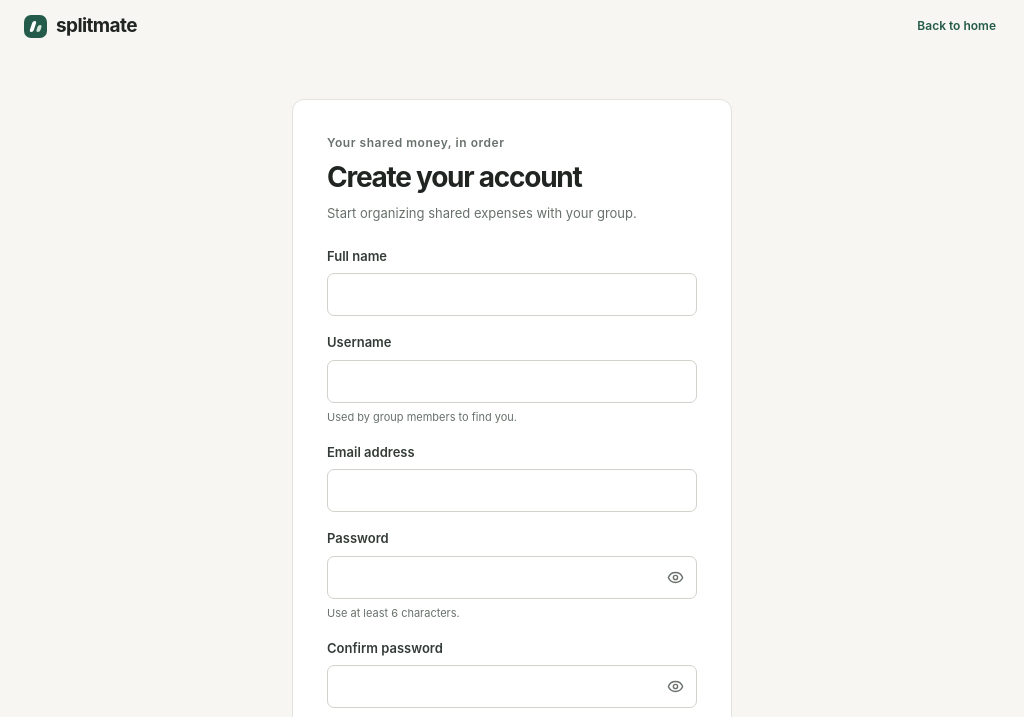
Scenario: AuthPage registration feedback › shows email delivery failure and stays on registration instead of claiming success
Type "Test Person" into the field labelled "Full name". click: [512, 295]
box: top-left (327, 273), bottom-right (697, 316)
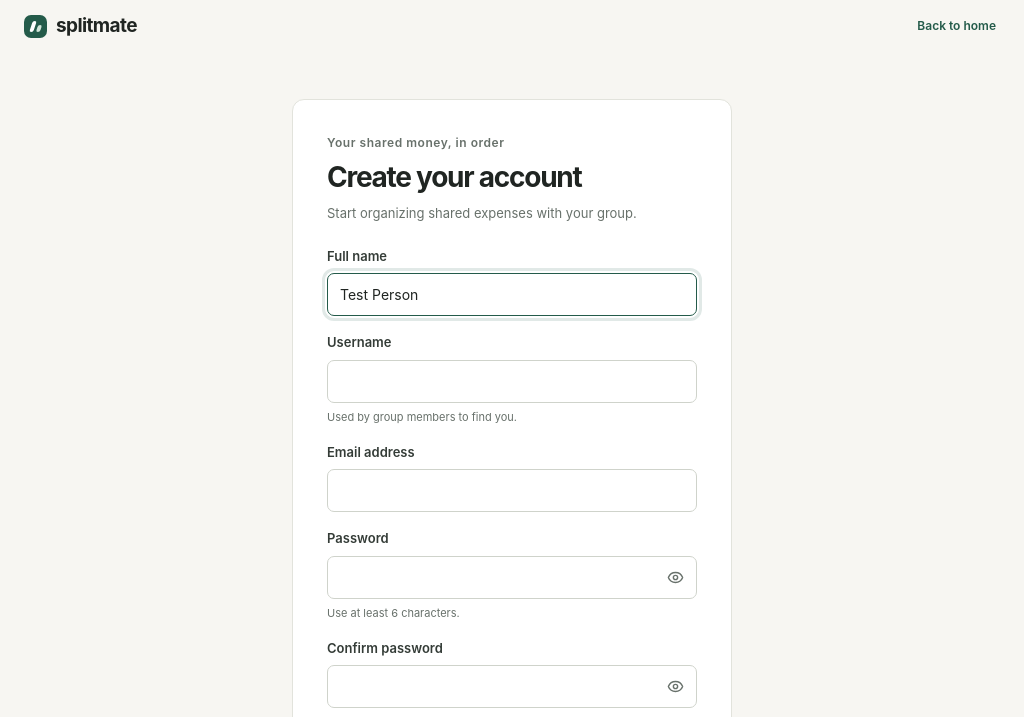
Type "testperson" into the field labelled "Username". click: [512, 381]
box: top-left (327, 360), bottom-right (697, 403)
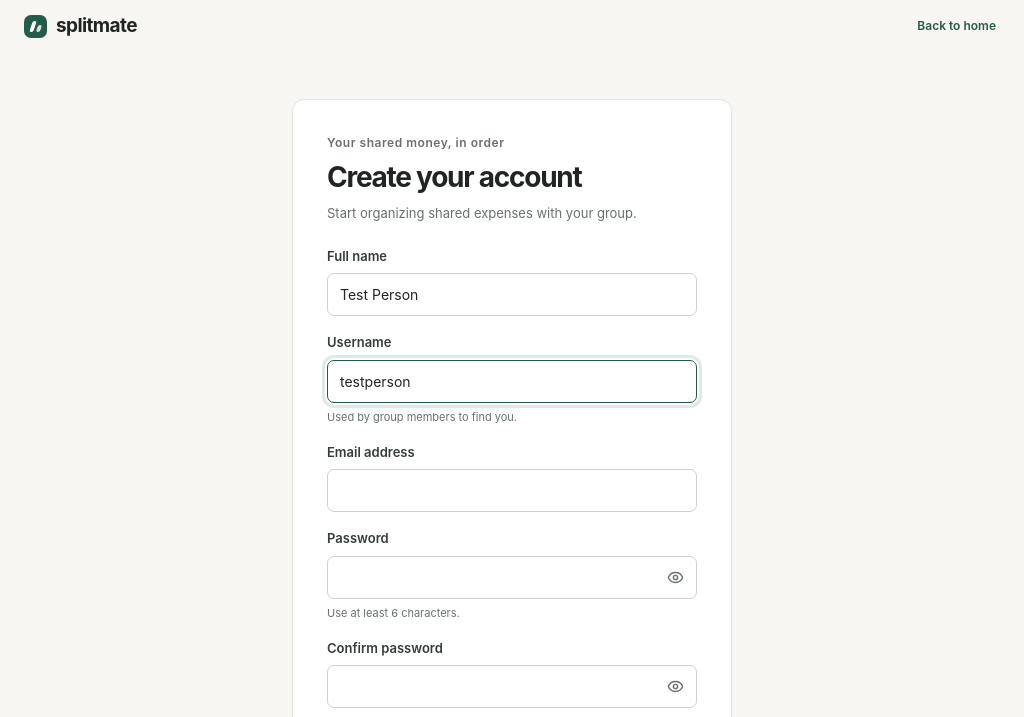
Type "test@example.com" into the field labelled "Email address". click: [512, 491]
box: top-left (327, 469), bottom-right (697, 512)
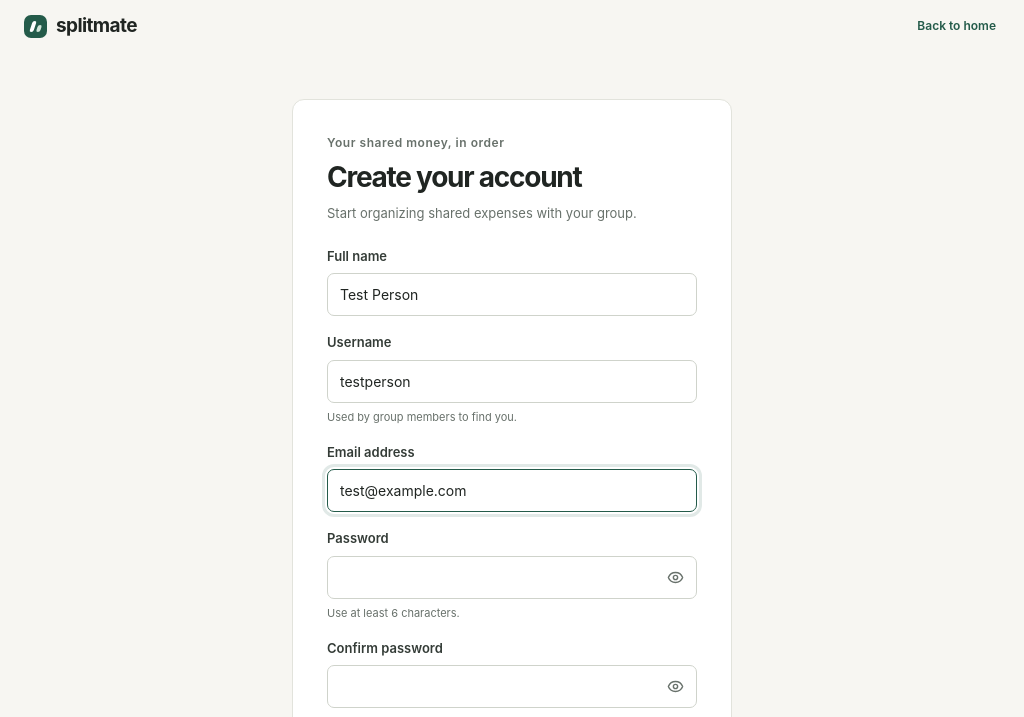
Type "abcdef" into the password field labelled "Password". click: [512, 577]
box: top-left (327, 556), bottom-right (697, 599)
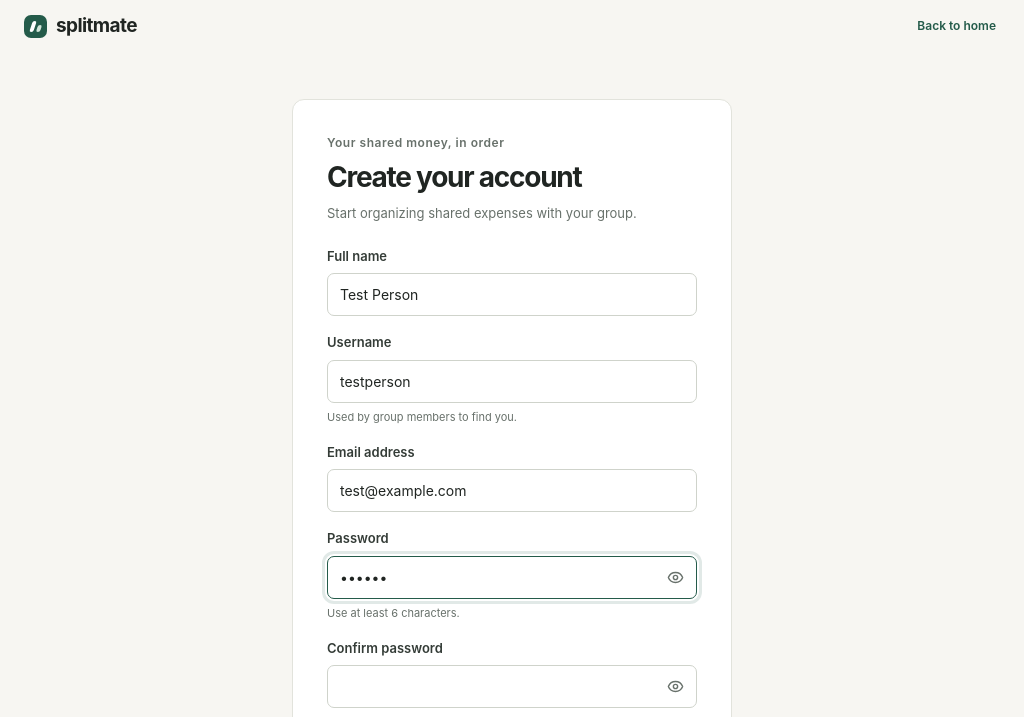
Type "abcdef" into the password field labelled "Confirm password". click: [512, 687]
box: top-left (327, 665), bottom-right (697, 708)
(page scrolled)
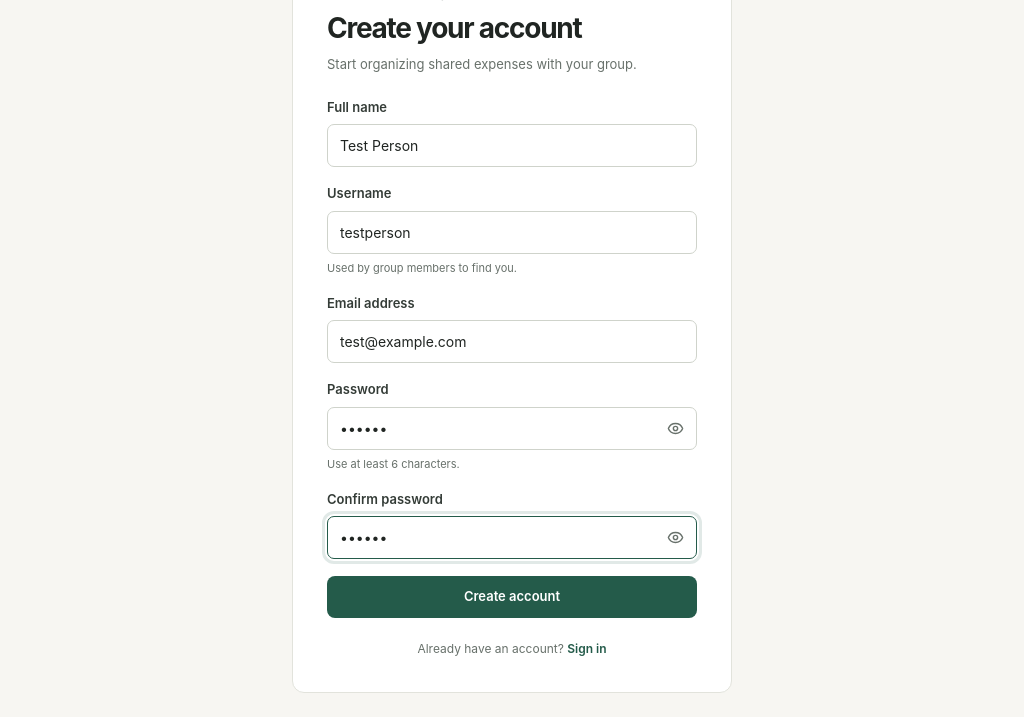
Click the button "Create account". click: [512, 597]
box: top-left (327, 576), bottom-right (697, 618)
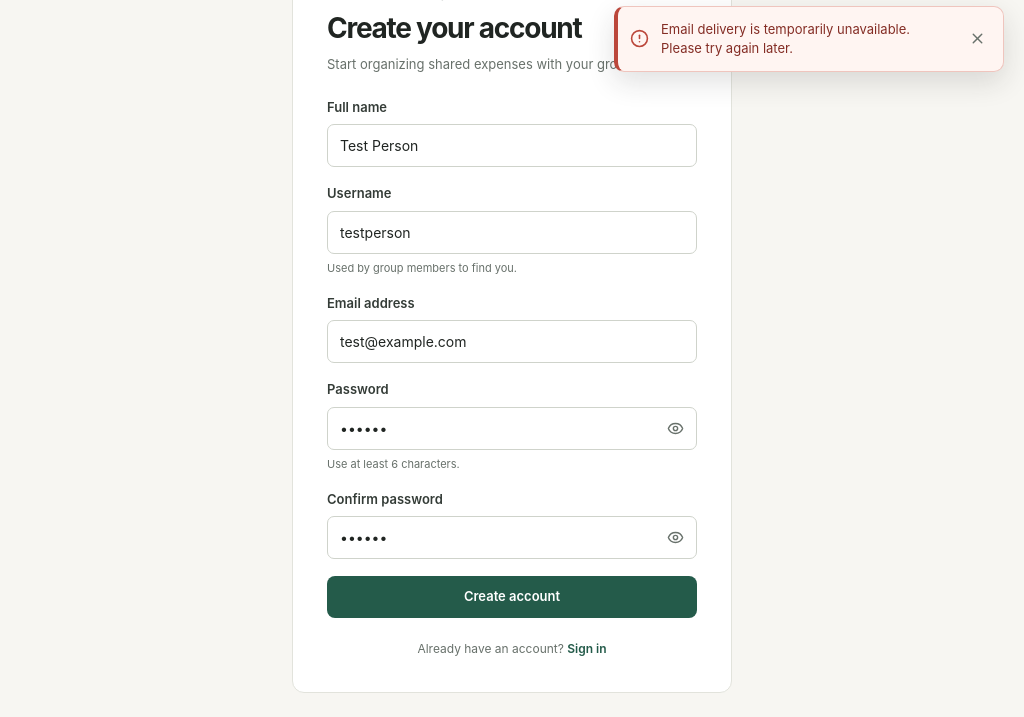
Expected: the heading "Create your account" is shown, top-left (327, 10), bottom-right (582, 44)
Result: the message shows "Email delivery is temporarily unavailable." at top-left (661, 21), bottom-right (910, 56)
